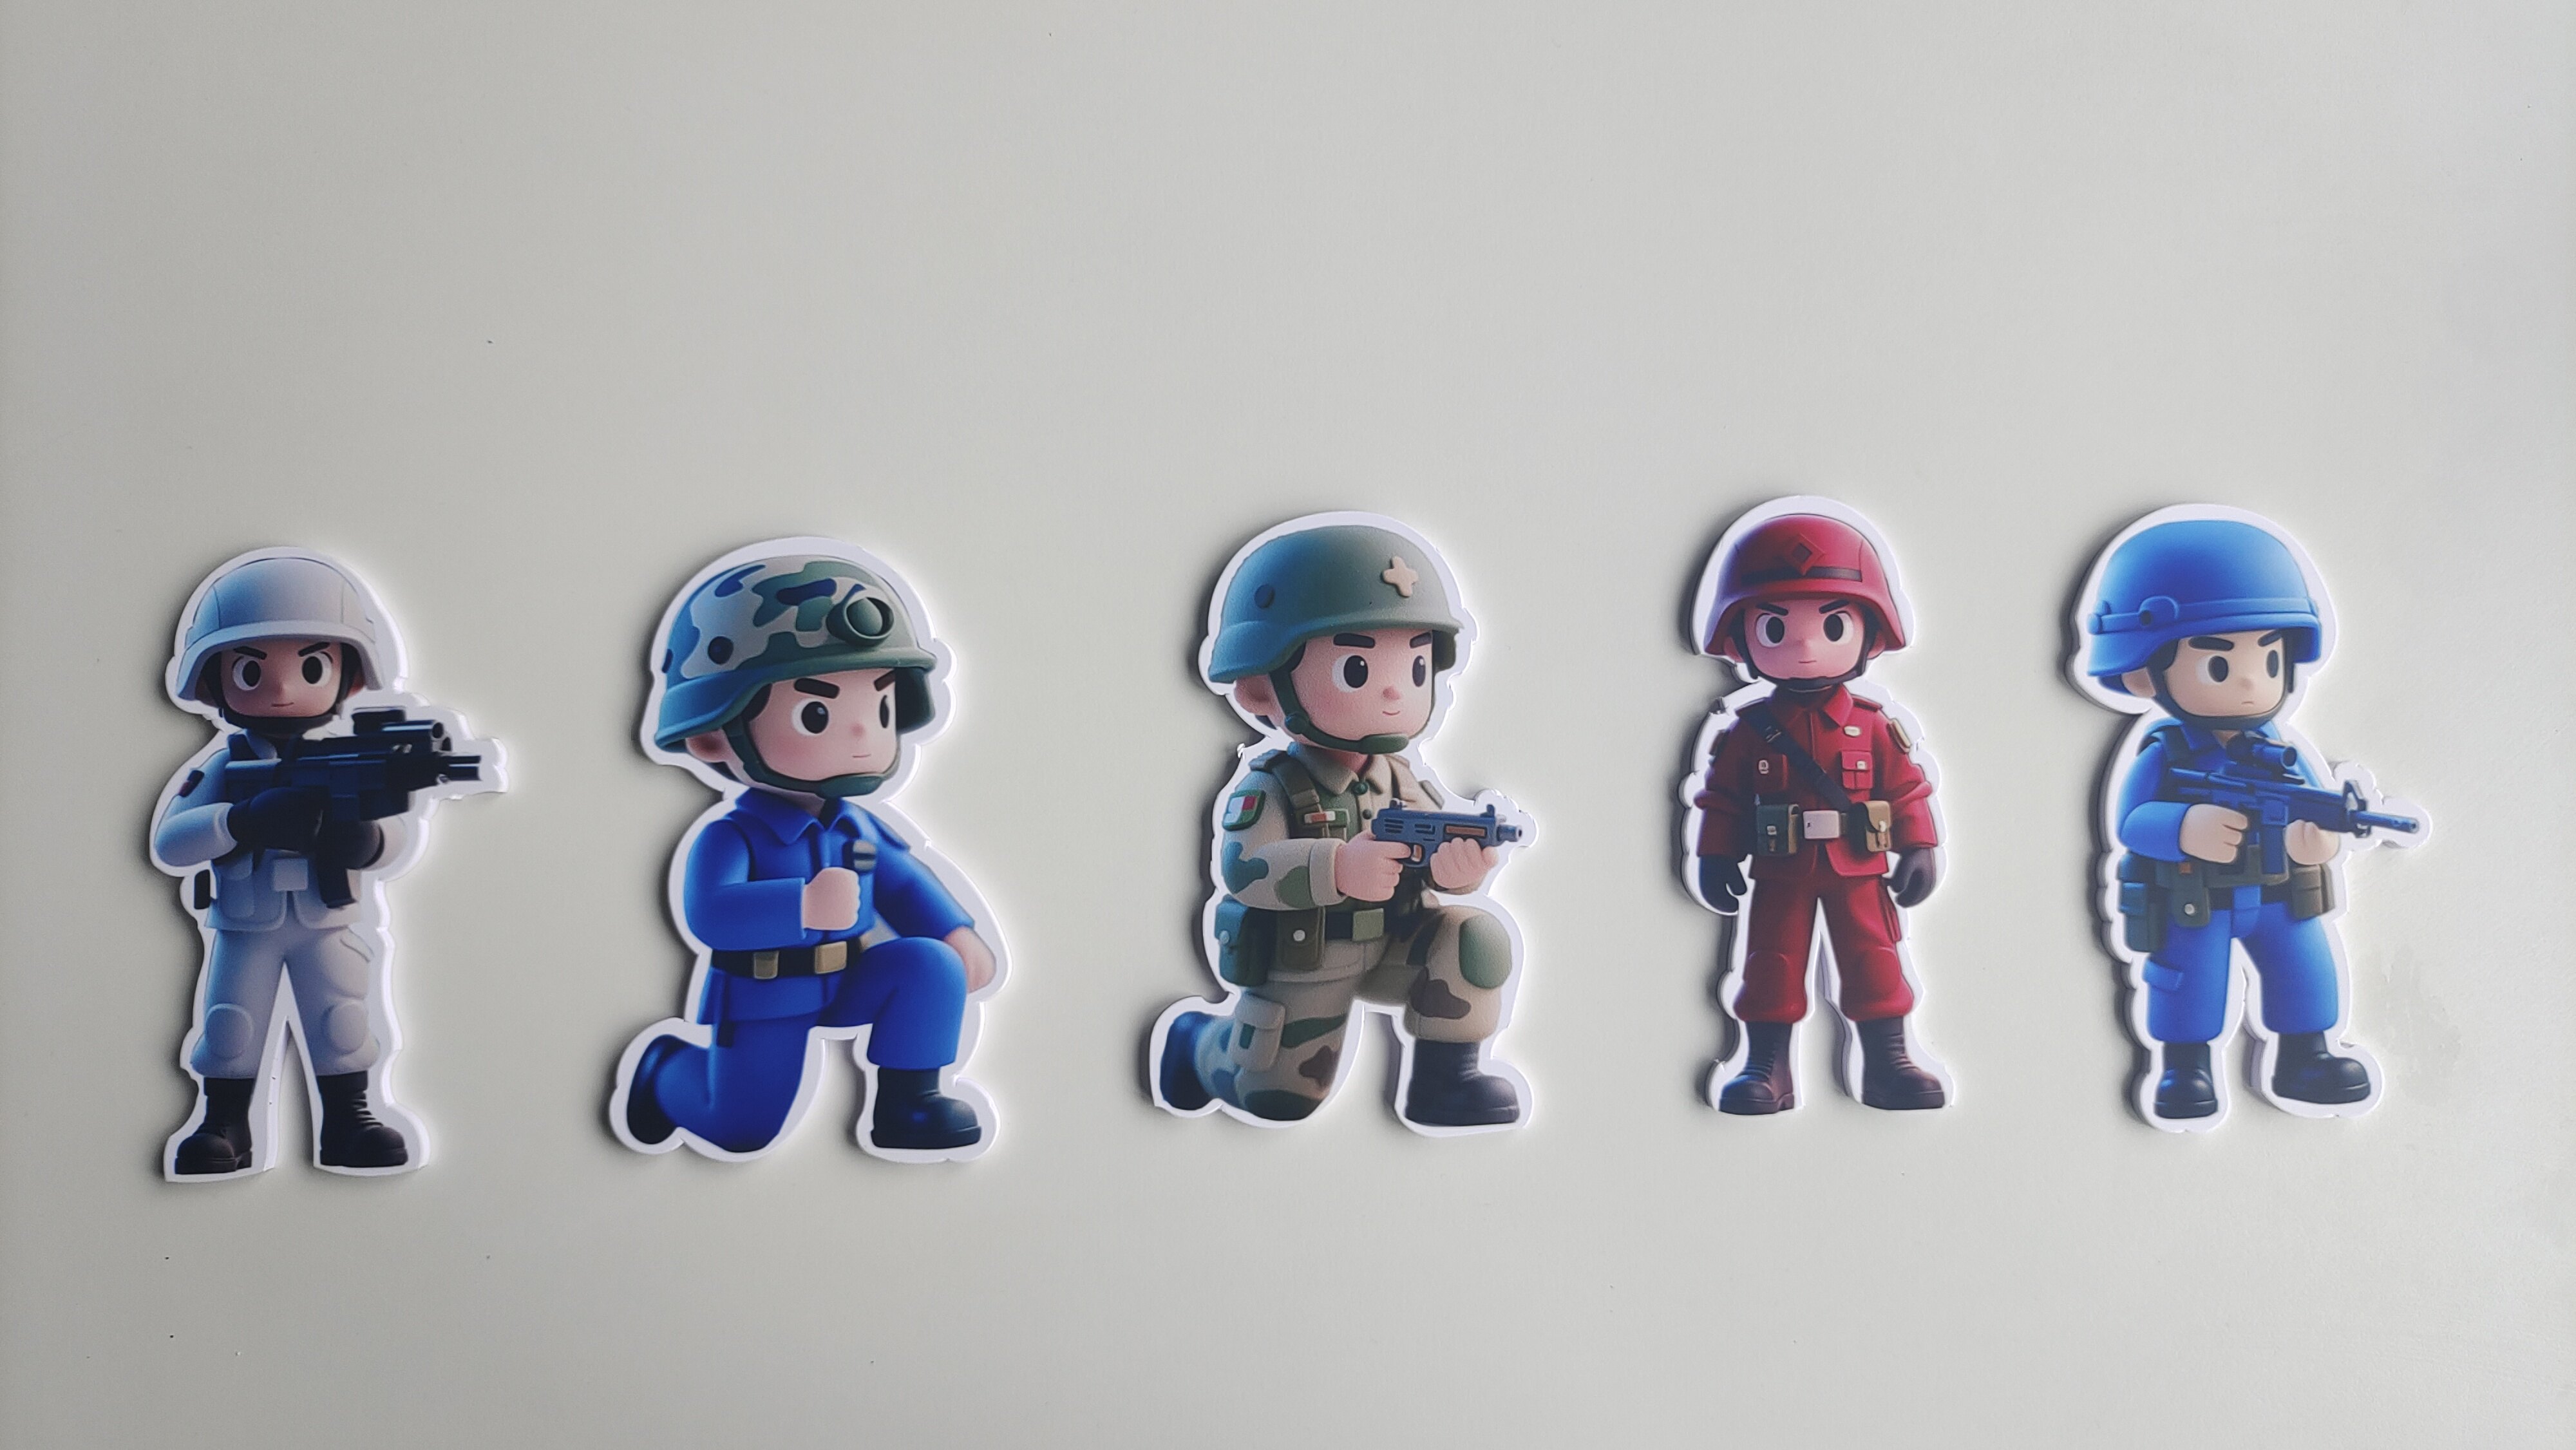enemy1: (1667, 697, 1964, 1130)
enemy2: (591, 798, 1016, 1178), (2079, 732, 2413, 1146)
friend: (1129, 767, 1566, 1146)
hostage: (134, 729, 467, 1185)
